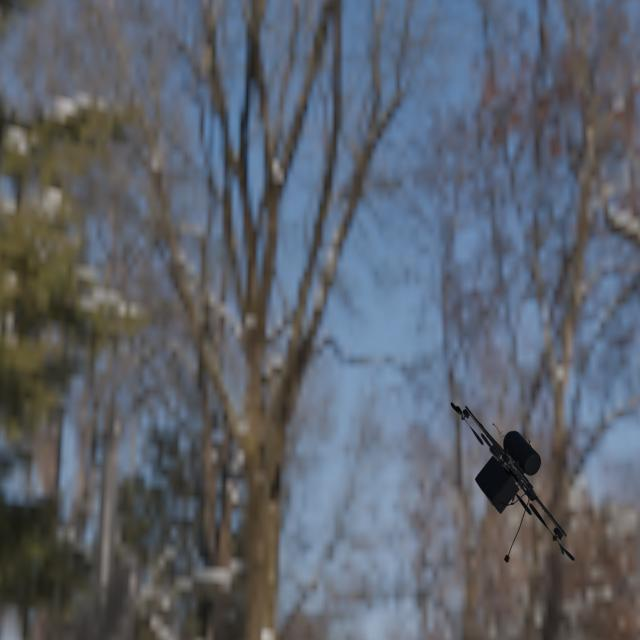drone: (450, 402, 575, 563)
